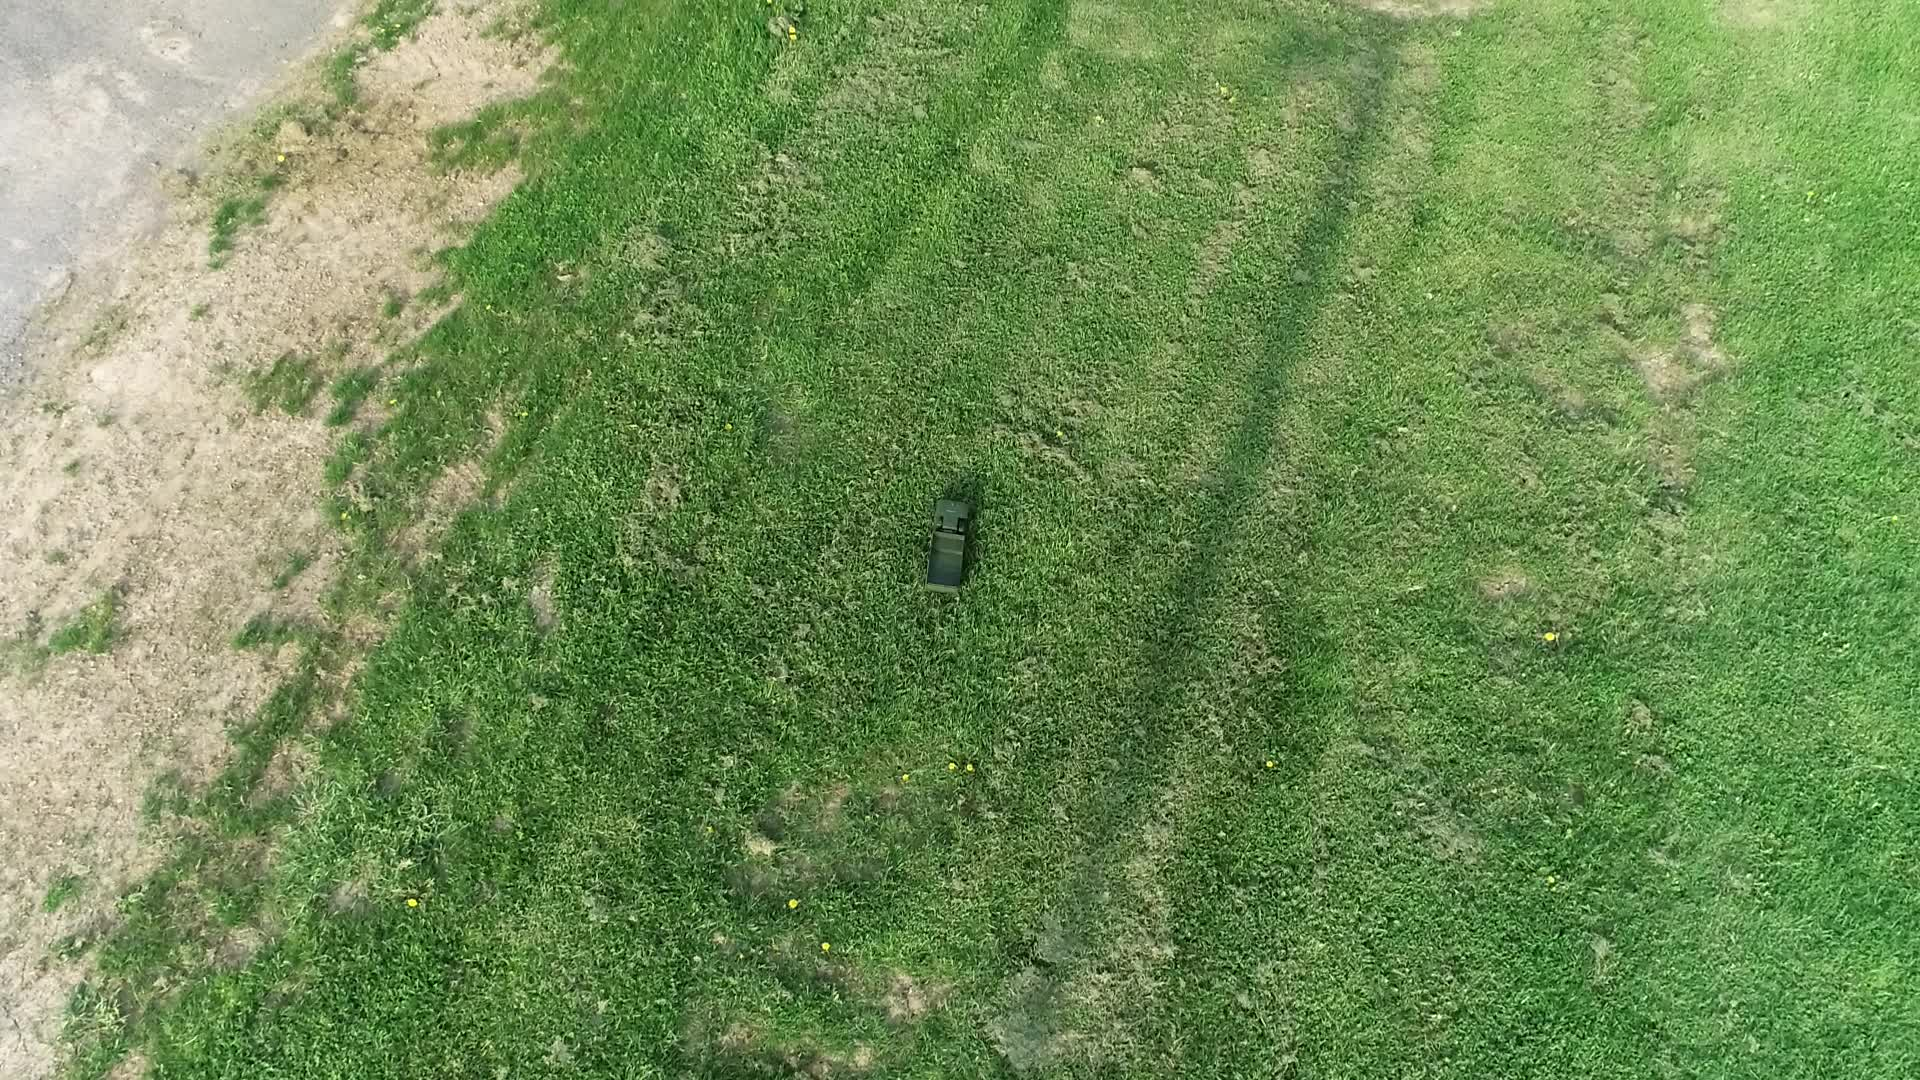transporter9: (920, 495, 975, 600)
